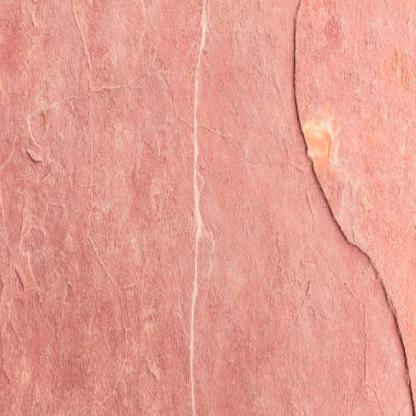Sedimentary_Sandstone: (1, 0, 416, 415)
